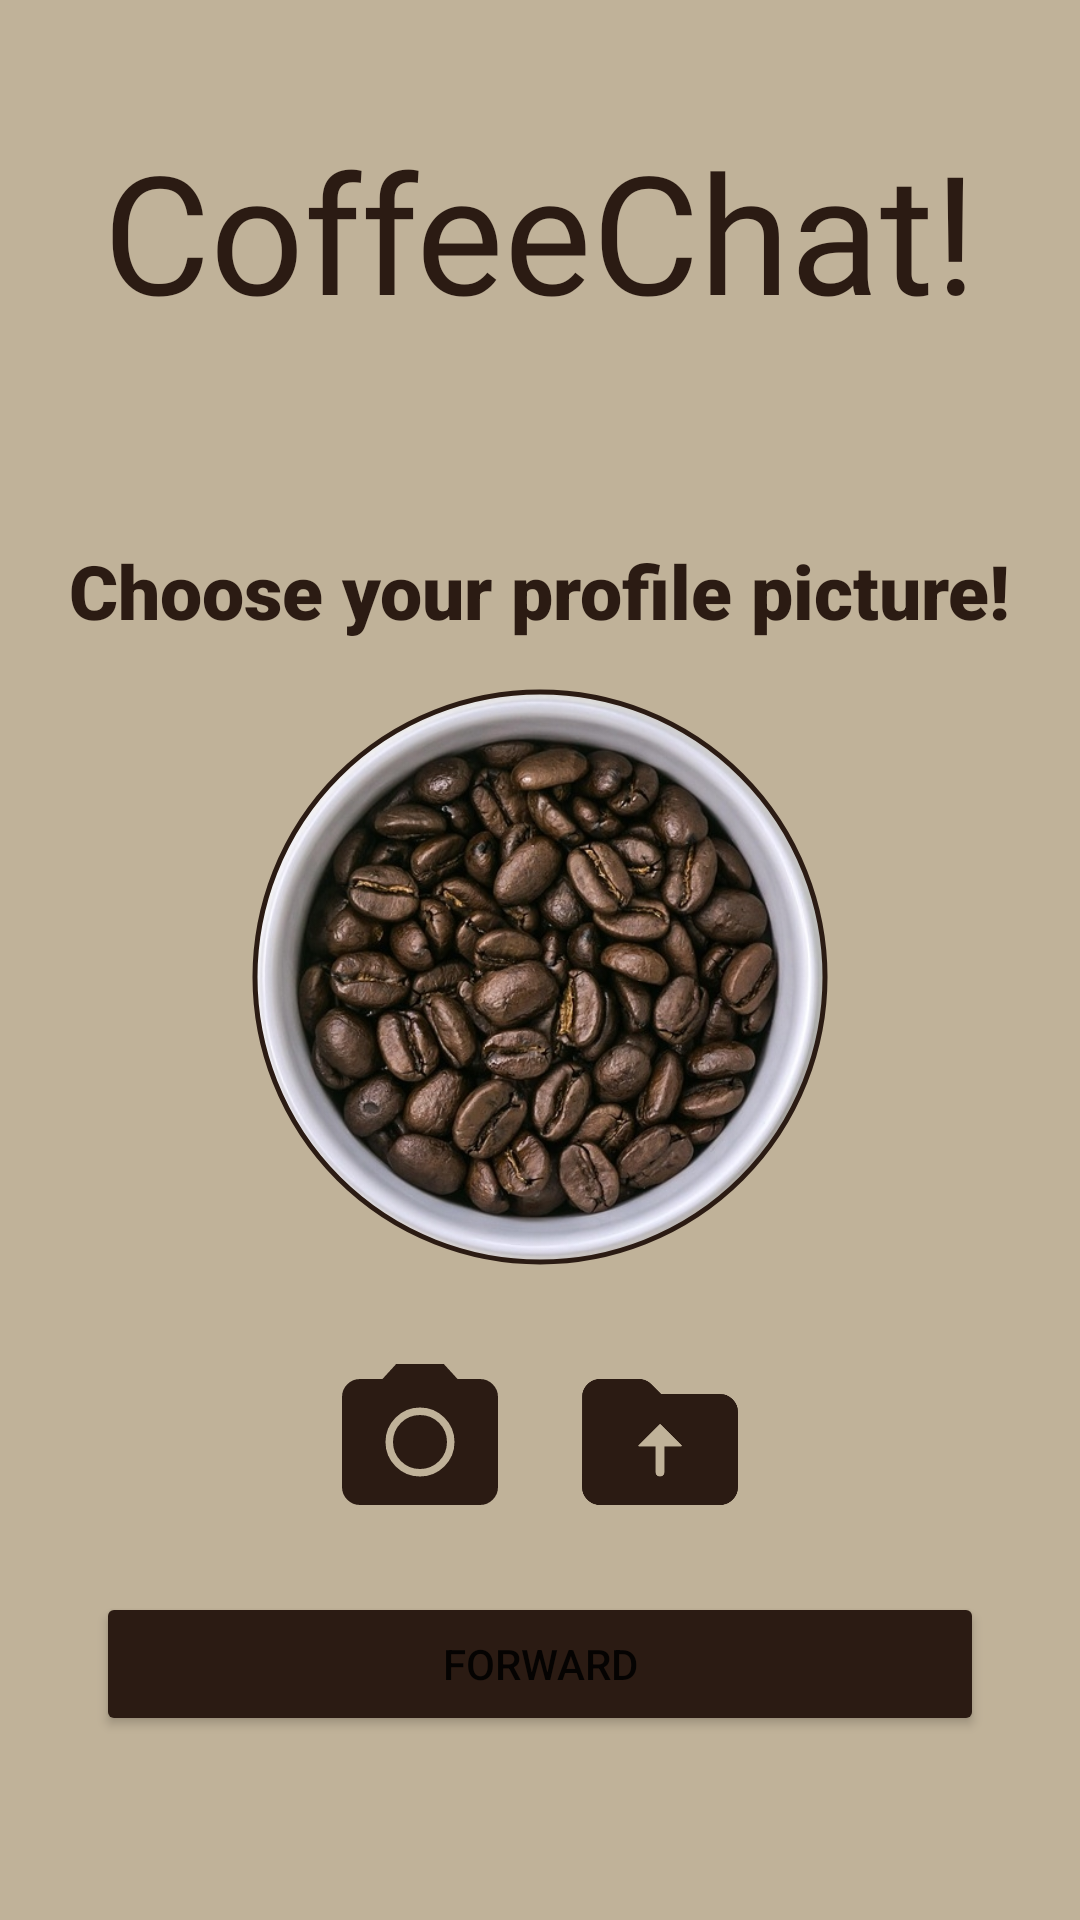

Point at icon controls on the screen. Image size 1080*1920, points as point (x, y).
Choose a profile picture from your gallery: point (660, 1442)
Create a new photo: point (420, 1434)
